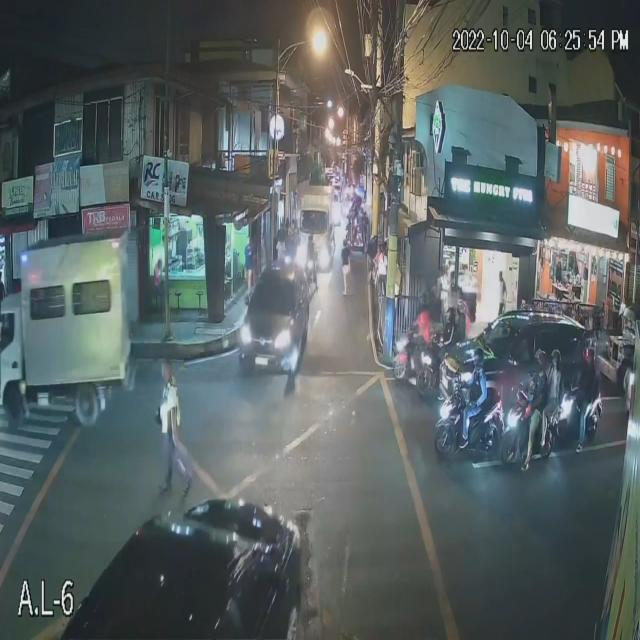Full-Faced: (470, 346, 486, 374), (580, 341, 594, 371), (415, 286, 428, 312), (452, 300, 467, 320), (443, 306, 453, 328)
Half-Faced: (534, 348, 549, 373), (550, 345, 561, 368)
